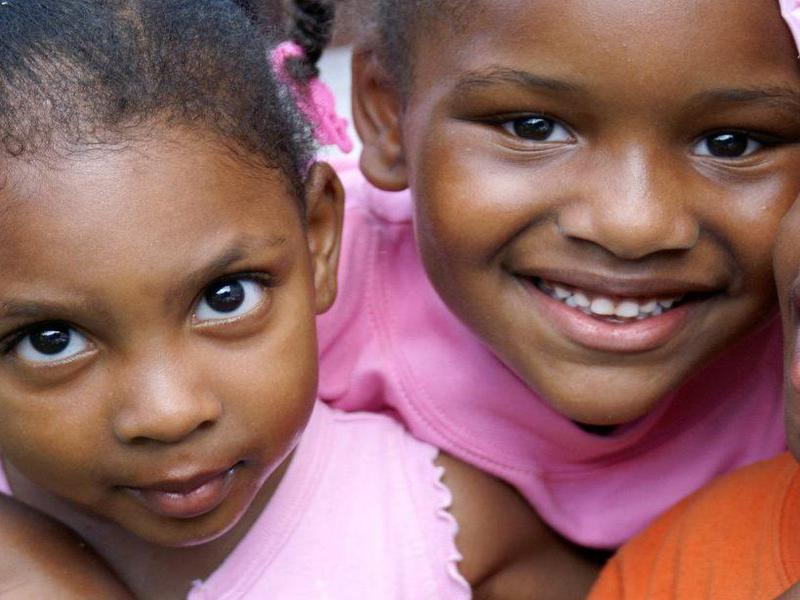person: (3, 1, 567, 600), (325, 1, 796, 596)
